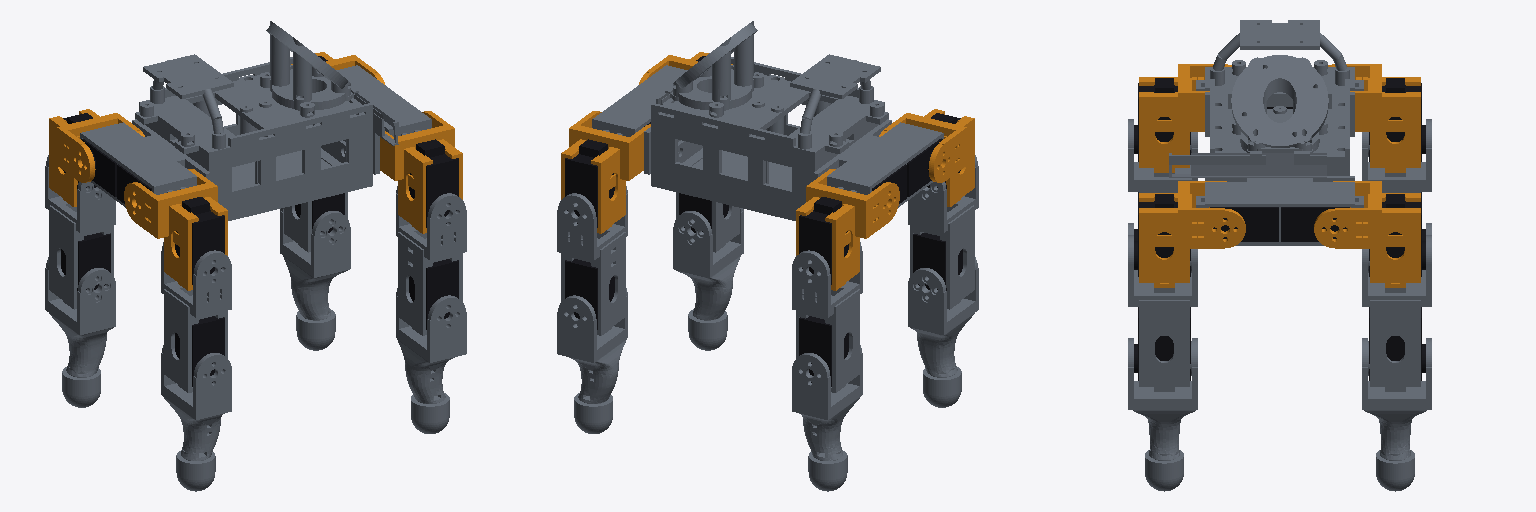
URDF robot description (smalldog):
<?xml version="1.0"?>
<!-- generated by smalldog_description/scripts/generate_model.py -->
<robot name="smalldog">
  <material name="grey"><color rgba="0.45 0.48 0.52 1"/></material>
  <material name="orange"><color rgba="0.85 0.55 0.15 1"/></material>
  <material name="servo"><color rgba="0.12 0.12 0.14 1"/></material>
  <link name="base_link">
    <inertial>
      <origin xyz="0.008245 -0.000049 0.020859" rpy="0 0 0"/>
      <mass value="1.56048"/>
      <inertia ixx="0.00305952" ixy="0.00000439" ixz="-0.00077313" iyy="0.00649468" iyz="0.00000020" izz="0.00603471"/>
    </inertial>
    <visual>
      <origin xyz="0 0 0" rpy="0 0 0"/>
      <geometry><mesh filename="package://smalldog_description/meshes/base_link.stl" scale="0.001 0.001 0.001"/></geometry>
      <material name="grey"/>
    </visual>
    <visual>
      <origin xyz="0 0 0" rpy="0 0 0"/>
      <geometry><mesh filename="package://smalldog_description/meshes/fl_roll_servo.stl" scale="0.001 0.001 0.001"/></geometry>
      <material name="servo"/>
    </visual>
    <visual>
      <origin xyz="0 0 0" rpy="0 0 0"/>
      <geometry><mesh filename="package://smalldog_description/meshes/fr_roll_servo.stl" scale="0.001 0.001 0.001"/></geometry>
      <material name="servo"/>
    </visual>
    <visual>
      <origin xyz="0 0 0" rpy="0 0 0"/>
      <geometry><mesh filename="package://smalldog_description/meshes/rl_roll_servo.stl" scale="0.001 0.001 0.001"/></geometry>
      <material name="servo"/>
    </visual>
    <visual>
      <origin xyz="0 0 0" rpy="0 0 0"/>
      <geometry><mesh filename="package://smalldog_description/meshes/rr_roll_servo.stl" scale="0.001 0.001 0.001"/></geometry>
      <material name="servo"/>
    </visual>
    <collision><origin xyz="0.0000 0.0000 0.0020" rpy="0 0 0"/><geometry><box size="0.1260 0.0920 0.0540"/></geometry></collision>
    <collision><origin xyz="0.0000 0.0000 0.0000" rpy="0 0 0"/><geometry><box size="0.2130 0.0982 0.0307"/></geometry></collision>
  </link>
  <link name="fl_hip">
    <inertial>
      <origin xyz="0.000229 0.009229 -0.015242" rpy="0 0 0"/>
      <mass value="0.09016"/>
      <inertia ixx="0.00005182" ixy="-0.00000028" ixz="-0.00000031" iyy="0.00003286" iyz="0.00000062" izz="0.00004063"/>
    </inertial>
    <visual>
      <origin xyz="0 0 0" rpy="0 0 0"/>
      <geometry><mesh filename="package://smalldog_description/meshes/fl_hip.stl" scale="0.001 0.001 0.001"/></geometry>
      <material name="orange"/>
    </visual>
    <visual>
      <origin xyz="0 0 0" rpy="0 0 0"/>
      <geometry><mesh filename="package://smalldog_description/meshes/fl_pitch_servo.stl" scale="0.001 0.001 0.001"/></geometry>
      <material name="servo"/>
    </visual>
    <collision><origin xyz="0.0000 0.0400 -0.0475" rpy="0 0 0"/><geometry><box size="0.0307 0.0330 0.0512"/></geometry></collision>
  </link>
  <link name="fl_thigh">
    <inertial>
      <origin xyz="0.000016 0.000232 -0.053633" rpy="0 0 0"/>
      <mass value="0.09707"/>
      <inertia ixx="0.00006669" ixy="0.00000000" ixz="-0.00000002" iyy="0.00005970" iyz="-0.00000060" izz="0.00002103"/>
    </inertial>
    <visual>
      <origin xyz="0 0 0" rpy="0 0 0"/>
      <geometry><mesh filename="package://smalldog_description/meshes/fl_thigh.stl" scale="0.001 0.001 0.001"/></geometry>
      <material name="grey"/>
    </visual>
    <visual>
      <origin xyz="0 0 0" rpy="0 0 0"/>
      <geometry><mesh filename="package://smalldog_description/meshes/fl_knee_servo.stl" scale="0.001 0.001 0.001"/></geometry>
      <material name="servo"/>
    </visual>
    <collision><origin xyz="0.0000 0.0000 -0.0440" rpy="0 0 0"/><geometry><box size="0.0307 0.0330 0.0700"/></geometry></collision>
  </link>
  <link name="fl_shin">
    <inertial>
      <origin xyz="-0.000765 0.000406 -0.040530" rpy="0 0 0"/>
      <mass value="0.04630"/>
      <inertia ixx="0.00003772" ixy="-0.00000002" ixz="-0.00000030" iyy="0.00003304" iyz="-0.00000038" izz="0.00001004"/>
    </inertial>
    <visual>
      <origin xyz="0 0 0" rpy="0 0 0"/>
      <geometry><mesh filename="package://smalldog_description/meshes/fl_shin.stl" scale="0.001 0.001 0.001"/></geometry>
      <material name="grey"/>
    </visual>
    <collision><origin xyz="0.0000 0.0000 -0.0385" rpy="0 0 0"/><geometry><cylinder radius="0.0120" length="0.0610"/></geometry></collision>
    <collision><origin xyz="0.0000 0.0000 -0.0820" rpy="0 0 0"/><geometry><sphere radius="0.0130"/></geometry></collision>
  </link>
  <link name="fr_hip">
    <inertial>
      <origin xyz="0.000229 -0.009229 -0.015242" rpy="0 0 0"/>
      <mass value="0.09016"/>
      <inertia ixx="0.00005182" ixy="0.00000028" ixz="-0.00000031" iyy="0.00003286" iyz="-0.00000062" izz="0.00004063"/>
    </inertial>
    <visual>
      <origin xyz="0 0 0" rpy="0 0 0"/>
      <geometry><mesh filename="package://smalldog_description/meshes/fr_hip.stl" scale="0.001 0.001 0.001"/></geometry>
      <material name="orange"/>
    </visual>
    <visual>
      <origin xyz="0 0 0" rpy="0 0 0"/>
      <geometry><mesh filename="package://smalldog_description/meshes/fr_pitch_servo.stl" scale="0.001 0.001 0.001"/></geometry>
      <material name="servo"/>
    </visual>
    <collision><origin xyz="0.0000 -0.0400 -0.0475" rpy="0 0 0"/><geometry><box size="0.0307 0.0330 0.0512"/></geometry></collision>
  </link>
  <link name="fr_thigh">
    <inertial>
      <origin xyz="0.000016 -0.000232 -0.053633" rpy="0 0 0"/>
      <mass value="0.09707"/>
      <inertia ixx="0.00006669" ixy="-0.00000000" ixz="-0.00000002" iyy="0.00005970" iyz="0.00000060" izz="0.00002103"/>
    </inertial>
    <visual>
      <origin xyz="0 0 0" rpy="0 0 0"/>
      <geometry><mesh filename="package://smalldog_description/meshes/fr_thigh.stl" scale="0.001 0.001 0.001"/></geometry>
      <material name="grey"/>
    </visual>
    <visual>
      <origin xyz="0 0 0" rpy="0 0 0"/>
      <geometry><mesh filename="package://smalldog_description/meshes/fr_knee_servo.stl" scale="0.001 0.001 0.001"/></geometry>
      <material name="servo"/>
    </visual>
    <collision><origin xyz="0.0000 0.0000 -0.0440" rpy="0 0 0"/><geometry><box size="0.0307 0.0330 0.0700"/></geometry></collision>
  </link>
  <link name="fr_shin">
    <inertial>
      <origin xyz="-0.000765 -0.000406 -0.040530" rpy="0 0 0"/>
      <mass value="0.04630"/>
      <inertia ixx="0.00003772" ixy="0.00000002" ixz="-0.00000030" iyy="0.00003304" iyz="0.00000038" izz="0.00001004"/>
    </inertial>
    <visual>
      <origin xyz="0 0 0" rpy="0 0 0"/>
      <geometry><mesh filename="package://smalldog_description/meshes/fr_shin.stl" scale="0.001 0.001 0.001"/></geometry>
      <material name="grey"/>
    </visual>
    <collision><origin xyz="0.0000 0.0000 -0.0385" rpy="0 0 0"/><geometry><cylinder radius="0.0120" length="0.0610"/></geometry></collision>
    <collision><origin xyz="0.0000 0.0000 -0.0820" rpy="0 0 0"/><geometry><sphere radius="0.0130"/></geometry></collision>
  </link>
  <link name="rl_hip">
    <inertial>
      <origin xyz="-0.000229 0.009229 -0.015242" rpy="0 0 0"/>
      <mass value="0.09016"/>
      <inertia ixx="0.00005182" ixy="0.00000028" ixz="0.00000031" iyy="0.00003286" iyz="0.00000062" izz="0.00004063"/>
    </inertial>
    <visual>
      <origin xyz="0 0 0" rpy="0 0 0"/>
      <geometry><mesh filename="package://smalldog_description/meshes/rl_hip.stl" scale="0.001 0.001 0.001"/></geometry>
      <material name="orange"/>
    </visual>
    <visual>
      <origin xyz="0 0 0" rpy="0 0 0"/>
      <geometry><mesh filename="package://smalldog_description/meshes/rl_pitch_servo.stl" scale="0.001 0.001 0.001"/></geometry>
      <material name="servo"/>
    </visual>
    <collision><origin xyz="0.0000 0.0400 -0.0475" rpy="0 0 0"/><geometry><box size="0.0307 0.0330 0.0512"/></geometry></collision>
  </link>
  <link name="rl_thigh">
    <inertial>
      <origin xyz="-0.000016 0.000232 -0.053633" rpy="0 0 0"/>
      <mass value="0.09707"/>
      <inertia ixx="0.00006669" ixy="-0.00000000" ixz="0.00000002" iyy="0.00005970" iyz="-0.00000060" izz="0.00002103"/>
    </inertial>
    <visual>
      <origin xyz="0 0 0" rpy="0 0 0"/>
      <geometry><mesh filename="package://smalldog_description/meshes/rl_thigh.stl" scale="0.001 0.001 0.001"/></geometry>
      <material name="grey"/>
    </visual>
    <visual>
      <origin xyz="0 0 0" rpy="0 0 0"/>
      <geometry><mesh filename="package://smalldog_description/meshes/rl_knee_servo.stl" scale="0.001 0.001 0.001"/></geometry>
      <material name="servo"/>
    </visual>
    <collision><origin xyz="0.0000 0.0000 -0.0440" rpy="0 0 0"/><geometry><box size="0.0307 0.0330 0.0700"/></geometry></collision>
  </link>
  <link name="rl_shin">
    <inertial>
      <origin xyz="0.000765 0.000406 -0.040530" rpy="0 0 0"/>
      <mass value="0.04630"/>
      <inertia ixx="0.00003772" ixy="0.00000002" ixz="0.00000030" iyy="0.00003304" iyz="-0.00000038" izz="0.00001004"/>
    </inertial>
    <visual>
      <origin xyz="0 0 0" rpy="0 0 0"/>
      <geometry><mesh filename="package://smalldog_description/meshes/rl_shin.stl" scale="0.001 0.001 0.001"/></geometry>
      <material name="grey"/>
    </visual>
    <collision><origin xyz="0.0000 0.0000 -0.0385" rpy="0 0 0"/><geometry><cylinder radius="0.0120" length="0.0610"/></geometry></collision>
    <collision><origin xyz="0.0000 0.0000 -0.0820" rpy="0 0 0"/><geometry><sphere radius="0.0130"/></geometry></collision>
  </link>
  <link name="rr_hip">
    <inertial>
      <origin xyz="-0.000229 -0.009229 -0.015242" rpy="0 0 0"/>
      <mass value="0.09016"/>
      <inertia ixx="0.00005182" ixy="-0.00000028" ixz="0.00000031" iyy="0.00003286" iyz="-0.00000062" izz="0.00004063"/>
    </inertial>
    <visual>
      <origin xyz="0 0 0" rpy="0 0 0"/>
      <geometry><mesh filename="package://smalldog_description/meshes/rr_hip.stl" scale="0.001 0.001 0.001"/></geometry>
      <material name="orange"/>
    </visual>
    <visual>
      <origin xyz="0 0 0" rpy="0 0 0"/>
      <geometry><mesh filename="package://smalldog_description/meshes/rr_pitch_servo.stl" scale="0.001 0.001 0.001"/></geometry>
      <material name="servo"/>
    </visual>
    <collision><origin xyz="0.0000 -0.0400 -0.0475" rpy="0 0 0"/><geometry><box size="0.0307 0.0330 0.0512"/></geometry></collision>
  </link>
  <link name="rr_thigh">
    <inertial>
      <origin xyz="-0.000016 -0.000232 -0.053633" rpy="0 0 0"/>
      <mass value="0.09707"/>
      <inertia ixx="0.00006669" ixy="0.00000000" ixz="0.00000002" iyy="0.00005970" iyz="0.00000060" izz="0.00002103"/>
    </inertial>
    <visual>
      <origin xyz="0 0 0" rpy="0 0 0"/>
      <geometry><mesh filename="package://smalldog_description/meshes/rr_thigh.stl" scale="0.001 0.001 0.001"/></geometry>
      <material name="grey"/>
    </visual>
    <visual>
      <origin xyz="0 0 0" rpy="0 0 0"/>
      <geometry><mesh filename="package://smalldog_description/meshes/rr_knee_servo.stl" scale="0.001 0.001 0.001"/></geometry>
      <material name="servo"/>
    </visual>
    <collision><origin xyz="0.0000 0.0000 -0.0440" rpy="0 0 0"/><geometry><box size="0.0307 0.0330 0.0700"/></geometry></collision>
  </link>
  <link name="rr_shin">
    <inertial>
      <origin xyz="0.000765 -0.000406 -0.040530" rpy="0 0 0"/>
      <mass value="0.04630"/>
      <inertia ixx="0.00003772" ixy="-0.00000002" ixz="0.00000030" iyy="0.00003304" iyz="0.00000038" izz="0.00001004"/>
    </inertial>
    <visual>
      <origin xyz="0 0 0" rpy="0 0 0"/>
      <geometry><mesh filename="package://smalldog_description/meshes/rr_shin.stl" scale="0.001 0.001 0.001"/></geometry>
      <material name="grey"/>
    </visual>
    <collision><origin xyz="0.0000 0.0000 -0.0385" rpy="0 0 0"/><geometry><cylinder radius="0.0120" length="0.0610"/></geometry></collision>
    <collision><origin xyz="0.0000 0.0000 -0.0820" rpy="0 0 0"/><geometry><sphere radius="0.0130"/></geometry></collision>
  </link>
  <joint name="fl_roll" type="revolute">
    <parent link="base_link"/>
    <child link="fl_hip"/>
    <origin xyz="0.09000 0.03600 0.00000" rpy="0 0 0"/>
    <axis xyz="1 0 0"/>
    <limit lower="-1.5708" upper="1.5708" effort="3.2" velocity="3.86"/>
  </joint>
  <joint name="fl_pitch" type="revolute">
    <parent link="fl_hip"/>
    <child link="fl_thigh"/>
    <origin xyz="0.00000 0.04000 -0.03000" rpy="0 0 0"/>
    <axis xyz="0 1 0"/>
    <limit lower="-1.5708" upper="1.5708" effort="3.2" velocity="3.86"/>
  </joint>
  <joint name="fl_knee" type="revolute">
    <parent link="fl_thigh"/>
    <child link="fl_shin"/>
    <origin xyz="0.00000 0.00000 -0.07500" rpy="0 0 0"/>
    <axis xyz="0 1 0"/>
    <limit lower="-1.9199" upper="1.9199" effort="3.2" velocity="3.86"/>
  </joint>
  <joint name="fr_roll" type="revolute">
    <parent link="base_link"/>
    <child link="fr_hip"/>
    <origin xyz="0.09000 -0.03600 0.00000" rpy="0 0 0"/>
    <axis xyz="1 0 0"/>
    <limit lower="-1.5708" upper="1.5708" effort="3.2" velocity="3.86"/>
  </joint>
  <joint name="fr_pitch" type="revolute">
    <parent link="fr_hip"/>
    <child link="fr_thigh"/>
    <origin xyz="0.00000 -0.04000 -0.03000" rpy="0 0 0"/>
    <axis xyz="0 1 0"/>
    <limit lower="-1.5708" upper="1.5708" effort="3.2" velocity="3.86"/>
  </joint>
  <joint name="fr_knee" type="revolute">
    <parent link="fr_thigh"/>
    <child link="fr_shin"/>
    <origin xyz="0.00000 0.00000 -0.07500" rpy="0 0 0"/>
    <axis xyz="0 1 0"/>
    <limit lower="-1.9199" upper="1.9199" effort="3.2" velocity="3.86"/>
  </joint>
  <joint name="rl_roll" type="revolute">
    <parent link="base_link"/>
    <child link="rl_hip"/>
    <origin xyz="-0.09000 0.03600 0.00000" rpy="0 0 0"/>
    <axis xyz="1 0 0"/>
    <limit lower="-1.5708" upper="1.5708" effort="3.2" velocity="3.86"/>
  </joint>
  <joint name="rl_pitch" type="revolute">
    <parent link="rl_hip"/>
    <child link="rl_thigh"/>
    <origin xyz="0.00000 0.04000 -0.03000" rpy="0 0 0"/>
    <axis xyz="0 1 0"/>
    <limit lower="-1.5708" upper="1.5708" effort="3.2" velocity="3.86"/>
  </joint>
  <joint name="rl_knee" type="revolute">
    <parent link="rl_thigh"/>
    <child link="rl_shin"/>
    <origin xyz="0.00000 0.00000 -0.07500" rpy="0 0 0"/>
    <axis xyz="0 1 0"/>
    <limit lower="-1.9199" upper="1.9199" effort="3.2" velocity="3.86"/>
  </joint>
  <joint name="rr_roll" type="revolute">
    <parent link="base_link"/>
    <child link="rr_hip"/>
    <origin xyz="-0.09000 -0.03600 0.00000" rpy="0 0 0"/>
    <axis xyz="1 0 0"/>
    <limit lower="-1.5708" upper="1.5708" effort="3.2" velocity="3.86"/>
  </joint>
  <joint name="rr_pitch" type="revolute">
    <parent link="rr_hip"/>
    <child link="rr_thigh"/>
    <origin xyz="0.00000 -0.04000 -0.03000" rpy="0 0 0"/>
    <axis xyz="0 1 0"/>
    <limit lower="-1.5708" upper="1.5708" effort="3.2" velocity="3.86"/>
  </joint>
  <joint name="rr_knee" type="revolute">
    <parent link="rr_thigh"/>
    <child link="rr_shin"/>
    <origin xyz="0.00000 0.00000 -0.07500" rpy="0 0 0"/>
    <axis xyz="0 1 0"/>
    <limit lower="-1.9199" upper="1.9199" effort="3.2" velocity="3.86"/>
  </joint>
  <link name="lidar_link"/>
  <joint name="lidar_link_joint" type="fixed">
    <parent link="base_link"/><child link="lidar_link"/>
    <origin xyz="0.0734663 0 0.0914663" rpy="0 0.785398 0"/>
  </joint>
  <link name="camera_link"/>
  <joint name="camera_joint" type="fixed">
    <parent link="base_link"/><child link="camera_link"/>
    <origin xyz="0.0787343 0 0.0257543" rpy="0 -0.10472 0"/>
  </joint>
  <link name="camera_optical_frame"/>
  <joint name="camera_optical_joint" type="fixed">
    <parent link="camera_link"/><child link="camera_optical_frame"/>
    <origin xyz="0 0 0" rpy="-1.5708 0 -1.5708"/>
  </joint>
  <link name="gps_link"/>
  <joint name="gps_joint" type="fixed">
    <parent link="base_link"/><child link="gps_link"/>
    <origin xyz="-0.05200 0.00000 0.07260" rpy="0 0 0"/>
  </joint>
</robot>

--- Facts derived from the render (not from the file) ---
The picture shows the robot from 3 angles, left to right: view 1: azimuth 30°, elevation 25°; view 2: azimuth 150°, elevation 25°; view 3: azimuth 270°, elevation 25°; orthographic projection.
Robot: smalldog — 17 links, 16 joints (12 revolute, 4 fixed); root link base_link; default pose: every joint at zero.
Links seen in each view (by area): view 1: base_link, fr_thigh, rr_thigh, rr_hip, rl_thigh, fl_shin, fr_hip, fr_shin, rl_shin, rr_shin, rl_hip, fl_thigh (+1 smaller); view 2: base_link, fl_thigh, rl_thigh, rl_hip, rr_thigh, fl_hip, fr_shin, fl_shin, rr_shin, rl_shin, rr_hip, fr_thigh (+1 smaller); view 3: base_link, fl_hip, fr_hip, fl_thigh, fr_thigh, rl_hip, rr_hip, fl_shin, fr_shin, rl_thigh, rr_thigh.
Link boxes in pixels (left/top/right/bottom): base_link: left=80, top=21, right=431, bottom=220; fr_thigh: left=396, top=186, right=466, bottom=335; rr_thigh: left=161, top=242, right=231, bottom=392; rr_hip: left=124, top=169, right=227, bottom=290; rl_thigh: left=45, top=155, right=115, bottom=309; fl_shin: left=280, top=208, right=350, bottom=350; fr_hip: left=380, top=111, right=462, bottom=233; fr_shin: left=396, top=288, right=466, bottom=433; rl_shin: left=45, top=257, right=115, bottom=407; rr_shin: left=161, top=345, right=231, bottom=491; rl_hip: left=49, top=109, right=144, bottom=206; fl_thigh: left=284, top=192, right=347, bottom=252; base_link: left=592, top=21, right=943, bottom=220; fl_thigh: left=557, top=186, right=627, bottom=335; rl_thigh: left=792, top=242, right=862, bottom=392; rl_hip: left=796, top=169, right=899, bottom=290; rr_thigh: left=908, top=155, right=978, bottom=309; fl_hip: left=561, top=111, right=650, bottom=233; fr_shin: left=673, top=208, right=743, bottom=350; fl_shin: left=557, top=288, right=627, bottom=433; rr_shin: left=908, top=257, right=978, bottom=407; rl_shin: left=792, top=345, right=862, bottom=491; rr_hip: left=879, top=109, right=974, bottom=206; fr_thigh: left=676, top=192, right=739, bottom=252; base_link: left=1169, top=20, right=1363, bottom=245; fl_hip: left=1314, top=181, right=1425, bottom=287; fr_hip: left=1134, top=181, right=1245, bottom=287; fl_thigh: left=1362, top=235, right=1431, bottom=391; fr_thigh: left=1128, top=235, right=1197, bottom=391; rl_hip: left=1328, top=64, right=1425, bottom=172; rr_hip: left=1134, top=64, right=1231, bottom=172; fl_shin: left=1362, top=338, right=1431, bottom=491; fr_shin: left=1128, top=338, right=1197, bottom=491; rl_thigh: left=1362, top=119, right=1431, bottom=240; rr_thigh: left=1128, top=119, right=1197, bottom=240.
Bounding box of the posed robot: 0.2286 × 0.2006 × 0.2822 m (x, y, z).
Meshes: 25 distinct files referenced, 25 mesh visuals loaded (25 binary STL).
